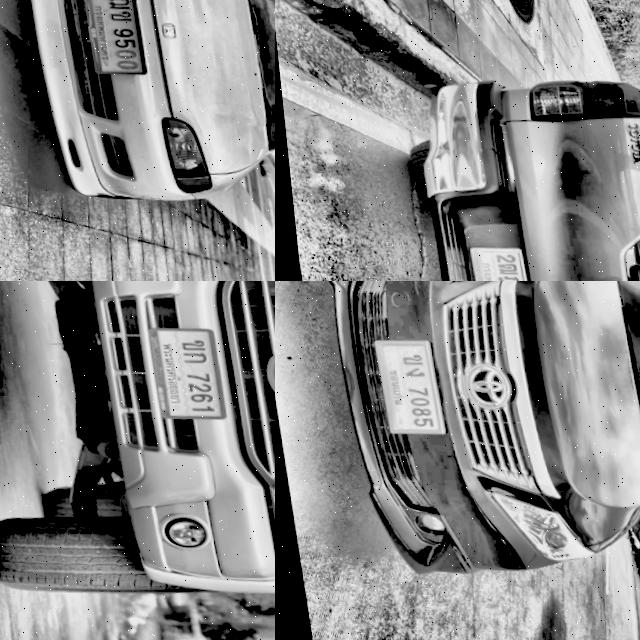license-plate: (135, 322, 220, 420), (361, 333, 440, 438), (75, 0, 141, 76), (461, 241, 527, 281)
